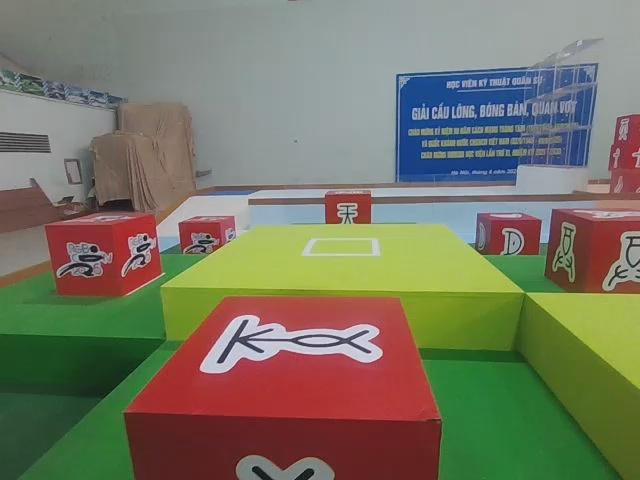R1: (43, 211, 161, 299), (177, 213, 237, 257)
R2 Real: (121, 296, 437, 480), (546, 205, 640, 296), (474, 209, 544, 259)
